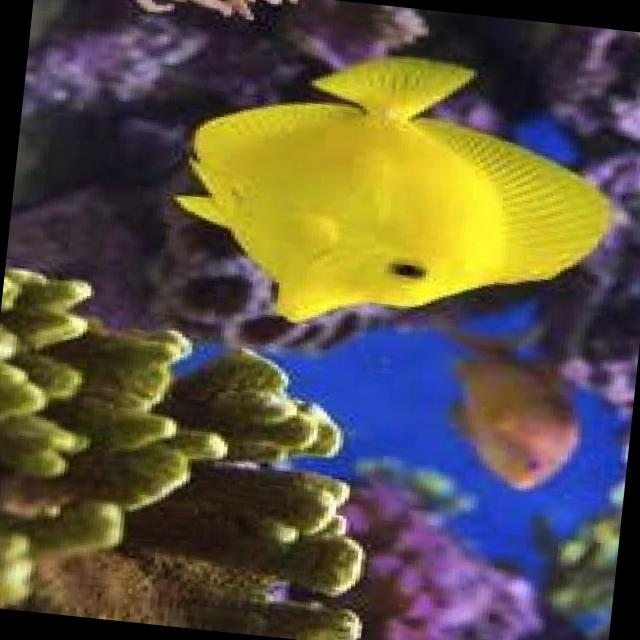YellowTang: (122, 11, 640, 400)
